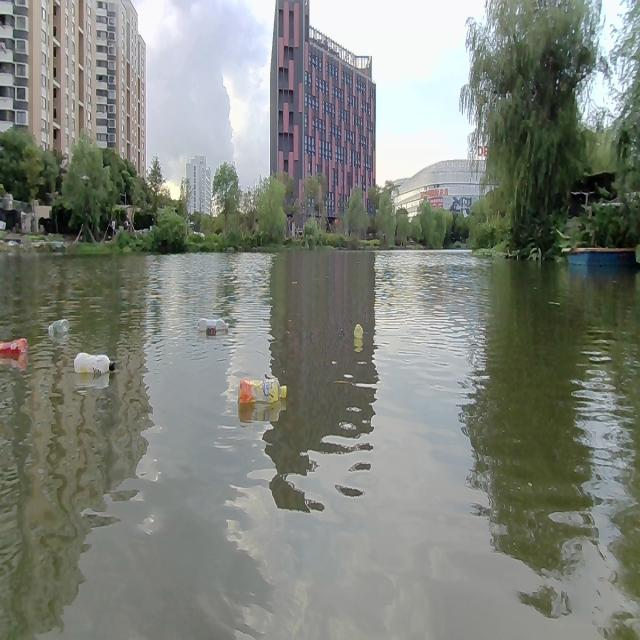bottle: (236, 371, 290, 406), (70, 351, 116, 376), (197, 316, 233, 334), (0, 338, 28, 361), (46, 314, 68, 336), (353, 322, 363, 339)
